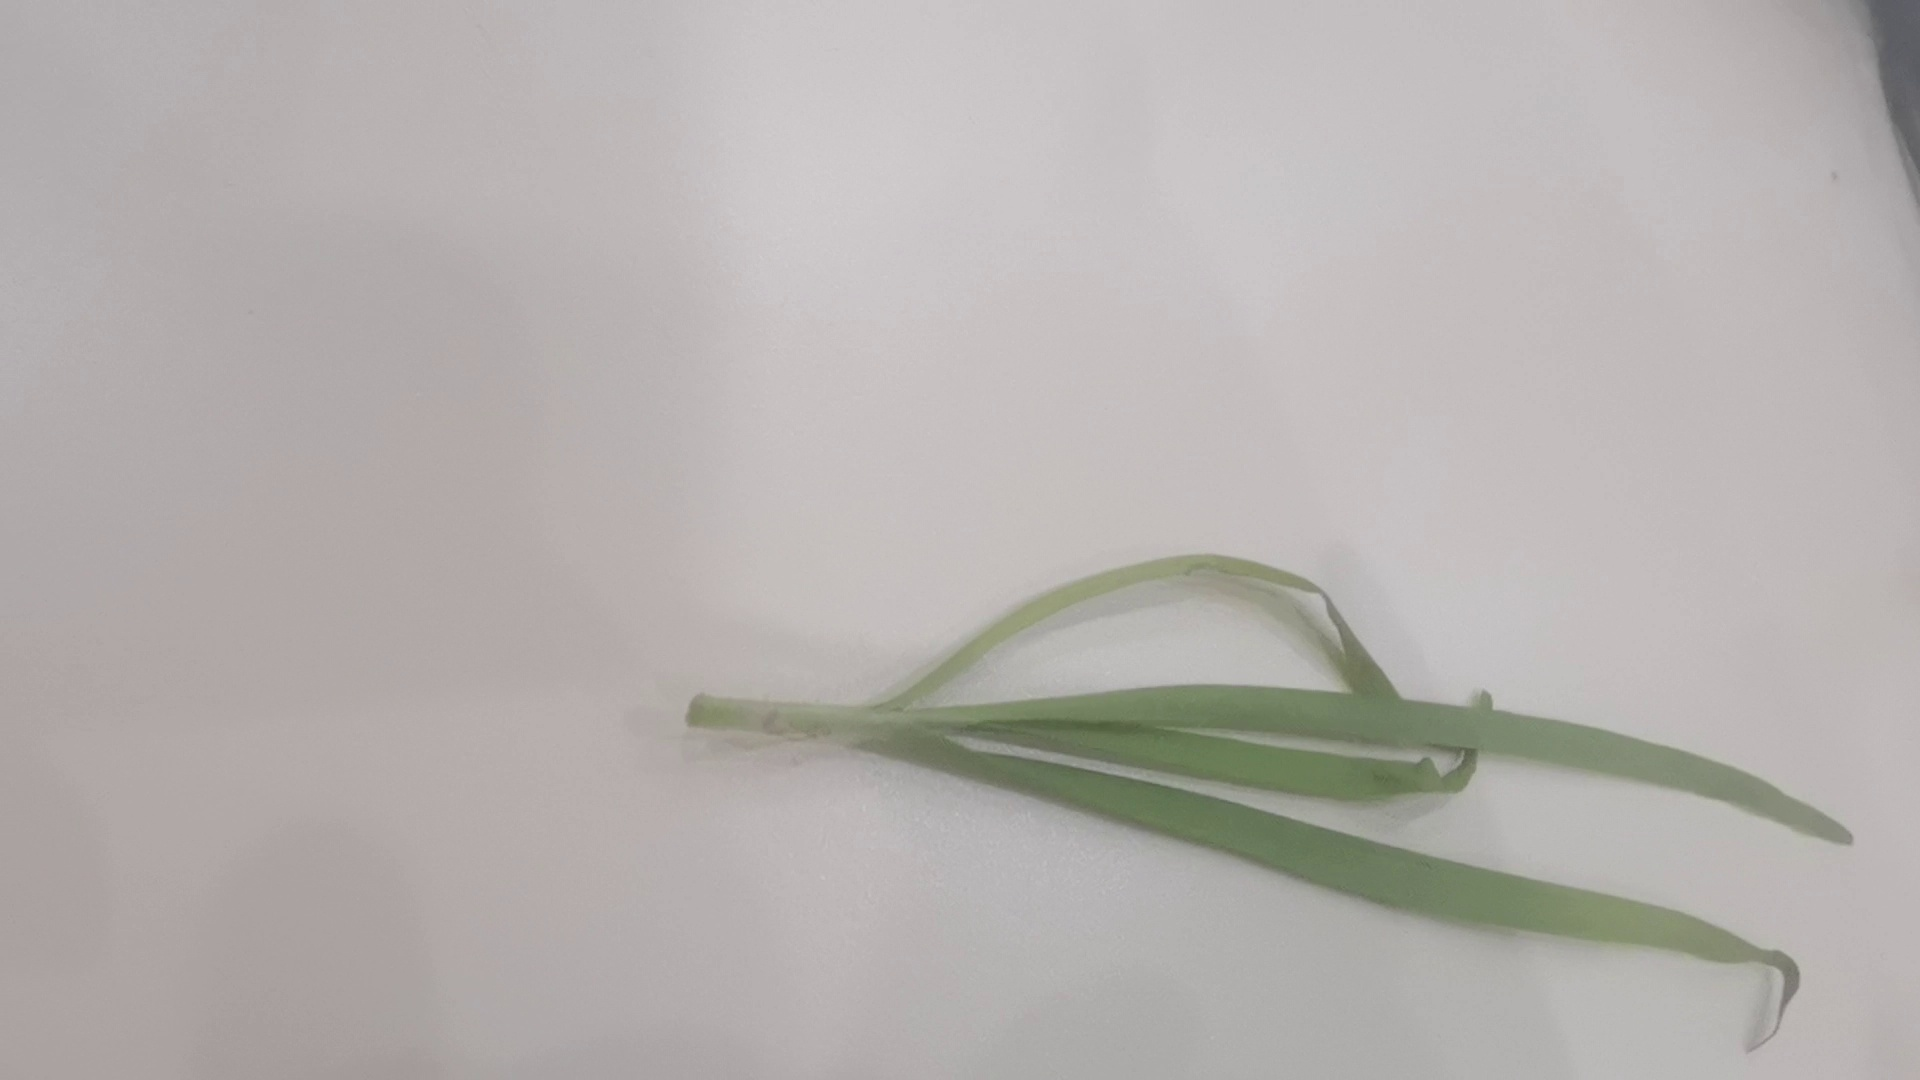chives: (680, 551, 1869, 1040)
